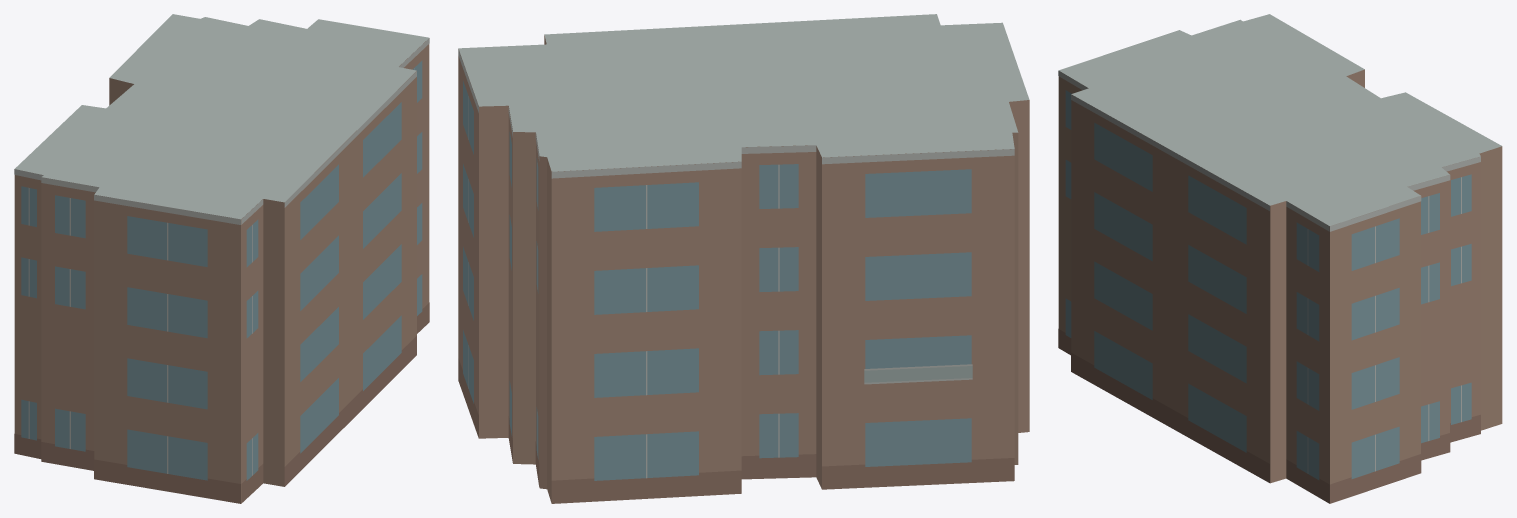
The model's file is survey-upis-32683452.glb.
The picture shows the model from 3 angles, left to right: view 1: azimuth 30°, elevation 25°; view 2: azimuth 150°, elevation 25°; view 3: azimuth 270°, elevation 25°; orthographic projection. The views are drawn at different scales.
Parts seen in each view (by area): view 1: survey-upis-32683452.tmp; view 2: survey-upis-32683452.tmp; view 3: survey-upis-32683452.tmp.
Part boxes in pixels (left/top/right/bottom): survey-upis-32683452.tmp: left=14, top=14, right=429, bottom=503; survey-upis-32683452.tmp: left=458, top=14, right=1029, bottom=503; survey-upis-32683452.tmp: left=1058, top=14, right=1502, bottom=503.
Size of the model in its own units: 19.6 by 11.95 by 17.33.
